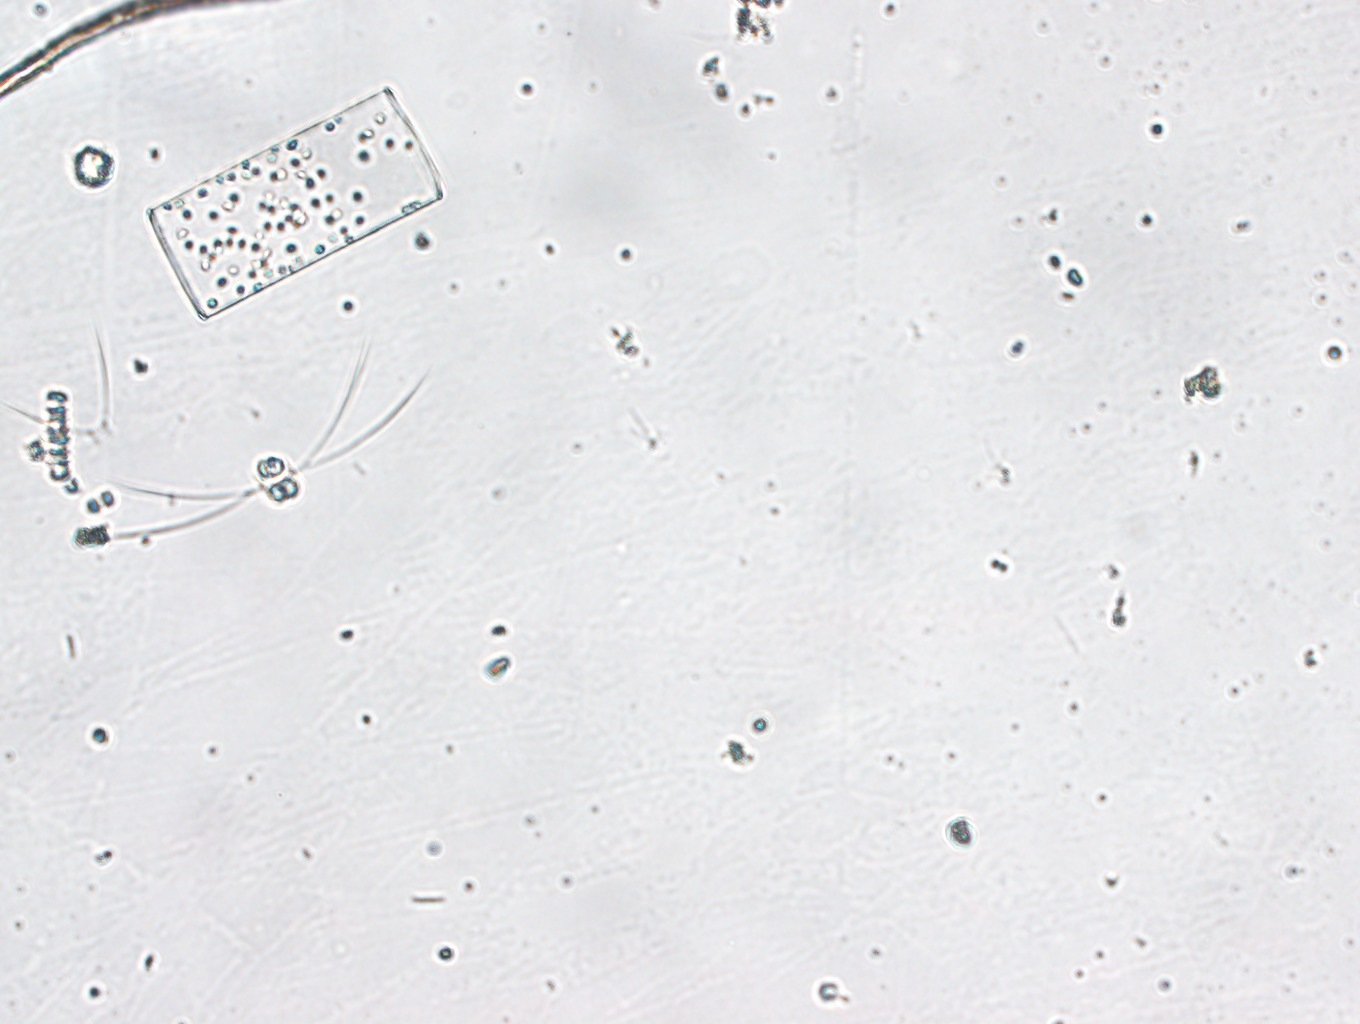chaetoceros: (104, 360, 432, 541)
guinardia flaccida: (133, 86, 457, 324)
